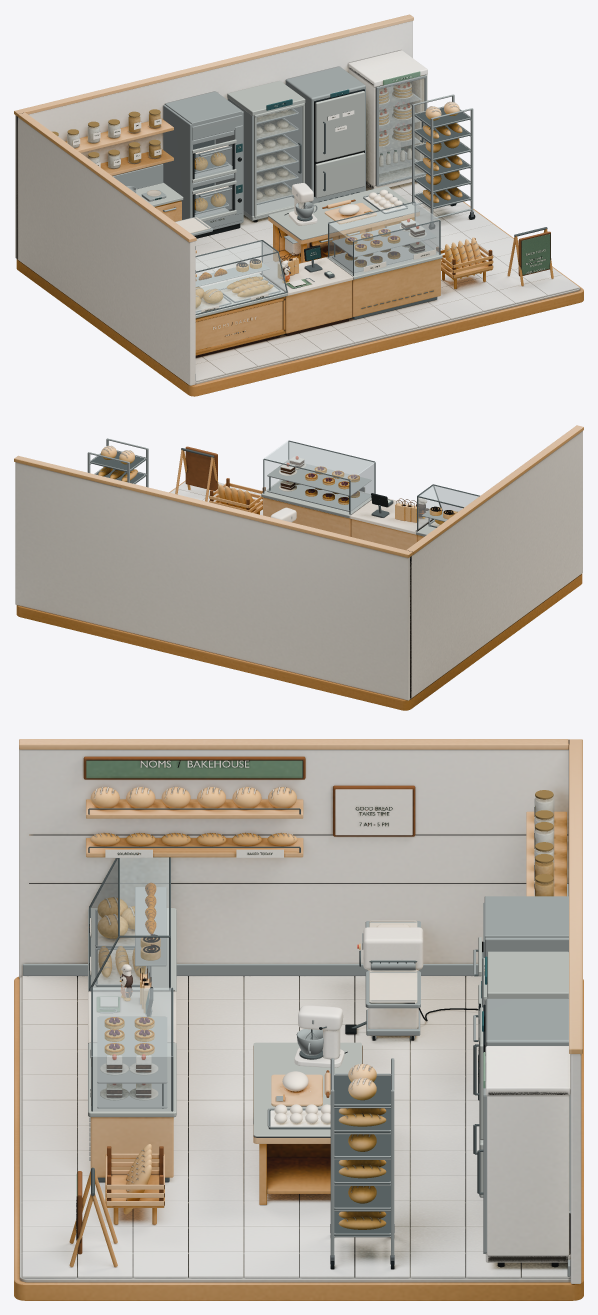
File: bakery-baked.glb
The picture shows the model from 3 angles, top to bottom: view 1: azimuth 30°, elevation 25°; view 2: azimuth 150°, elevation 25°; view 3: azimuth 270°, elevation 25°; orthographic projection. The views are drawn at different scales.
Visible parts, largest first — view 1: Baked bakery architecture, Live glass and reflective metal, Baked bakery details; view 2: Baked bakery architecture, Live glass and reflective metal, Baked bakery details; view 3: Baked bakery architecture, Baked bakery details, Live glass and reflective metal.
Part boxes in pixels (box(x1,y1,x2,y2)): Baked bakery architecture: box(14, 14, 583, 396); Live glass and reflective metal: box(52, 66, 547, 380); Baked bakery details: box(67, 76, 579, 381); Baked bakery architecture: box(14, 425, 583, 710); Live glass and reflective metal: box(87, 438, 479, 536); Baked bakery details: box(98, 445, 455, 522); Baked bakery architecture: box(14, 739, 583, 1300); Baked bakery details: box(22, 786, 570, 1277); Live glass and reflective metal: box(23, 790, 570, 1276).
Size of the model in its own units: 9.53 by 3.62 by 7.4.
9 materials, 2 textured.
